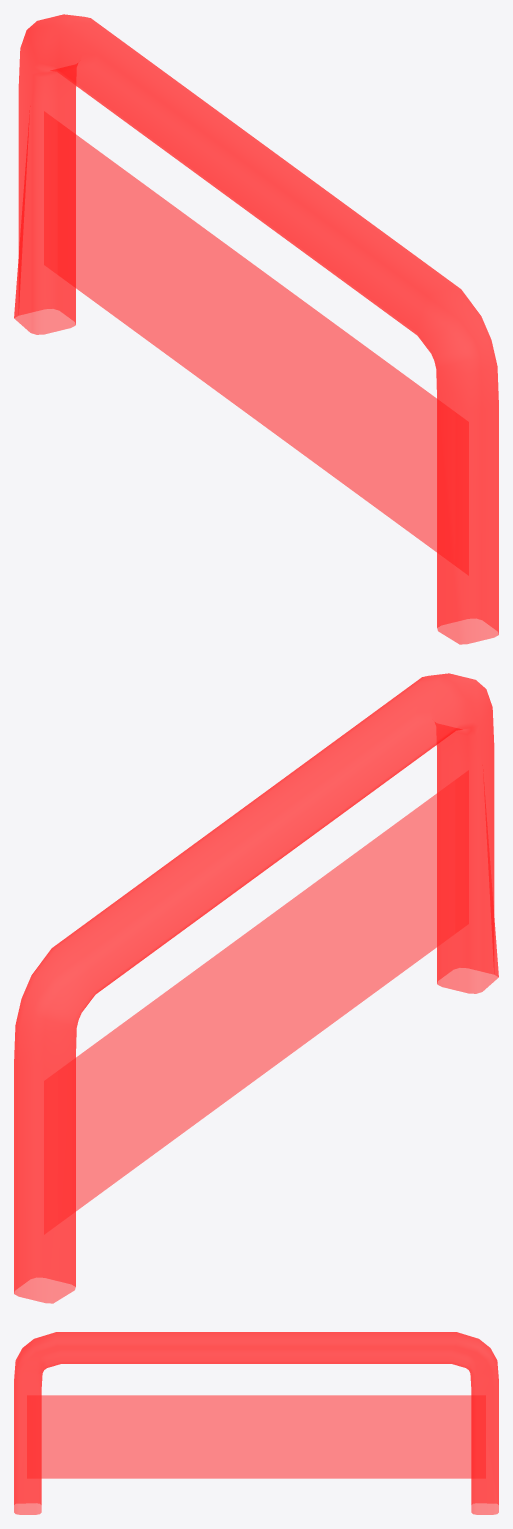
Rendered from P_BarreraWarning.fbx.
3 views of the same model, one above another, from view 1: azimuth 30°, elevation 25°; view 2: azimuth 150°, elevation 25°; view 3: azimuth 270°, elevation 25° (orthographic). The views are drawn at different scales.
Parts seen in each view (by area): view 1: BarreraWarning_sweep1, BarreraWarning_pPlane1; view 2: BarreraWarning_sweep1, BarreraWarning_pPlane1; view 3: BarreraWarning_pPlane1, BarreraWarning_sweep1.
Part boxes in pixels (x1,y1,x2,y2): BarreraWarning_sweep1: (14, 14, 498, 644); BarreraWarning_pPlane1: (44, 111, 468, 575); BarreraWarning_sweep1: (14, 673, 498, 1303); BarreraWarning_pPlane1: (44, 770, 468, 1234); BarreraWarning_pPlane1: (27, 1395, 485, 1478); BarreraWarning_sweep1: (14, 1332, 498, 1514).
Size of the model in its own units: 0.6044 by 4.17 by 10.56.
